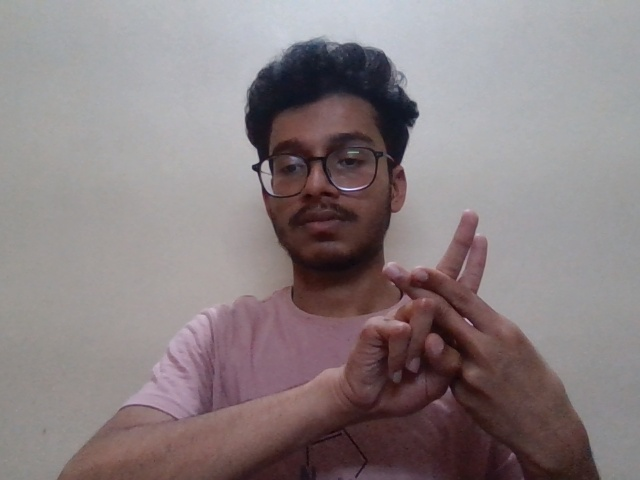disabled: (319, 209, 602, 465)
